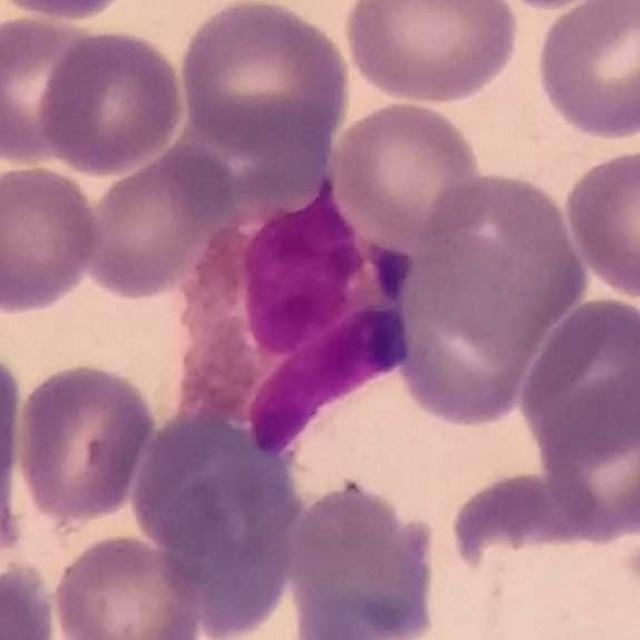Eosinophil: (173, 173, 410, 454)
RBC: (409, 167, 592, 348), (386, 238, 551, 432), (127, 404, 304, 568), (148, 456, 306, 638), (175, 0, 355, 155), (283, 475, 445, 640), (76, 141, 236, 302), (11, 358, 158, 524), (328, 97, 487, 247), (36, 25, 189, 178), (513, 292, 640, 460), (340, 0, 523, 107), (532, 368, 640, 546), (0, 10, 111, 168), (48, 530, 207, 640), (444, 468, 615, 570), (0, 160, 104, 317), (532, 0, 640, 141), (561, 144, 640, 302), (0, 340, 29, 546), (0, 556, 62, 640), (0, 0, 141, 23)
